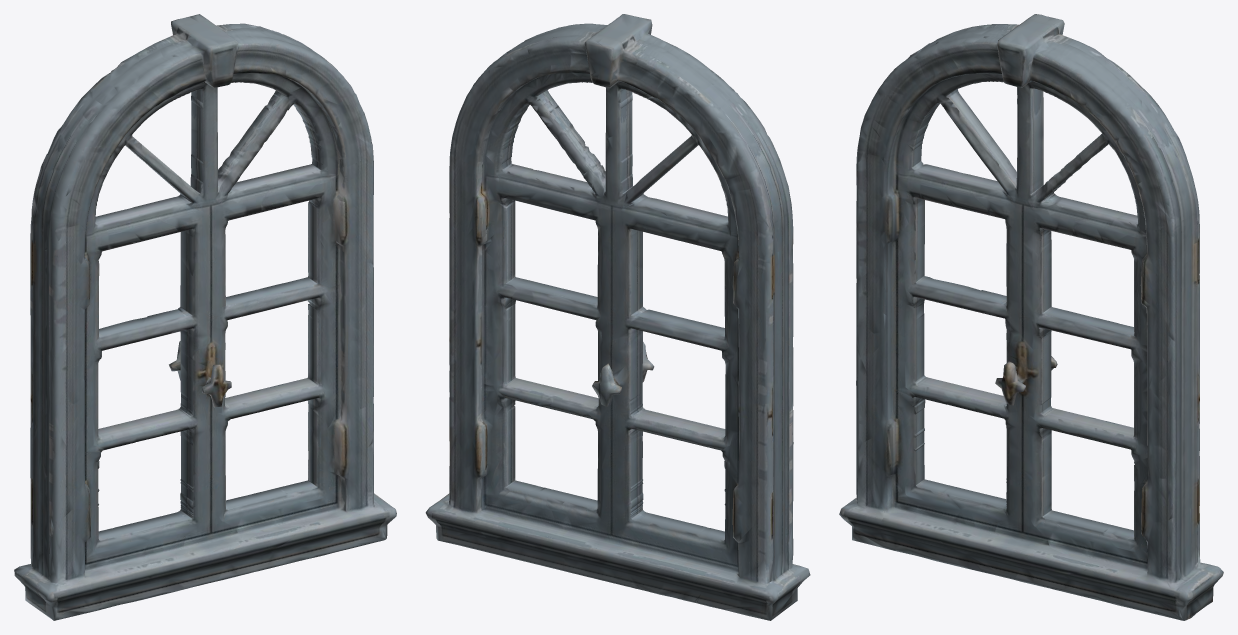
Rendered from window-frame.glb.
The picture shows the model from 3 angles, left to right: view 1: azimuth 30°, elevation 25°; view 2: azimuth 150°, elevation 25°; view 3: azimuth 330°, elevation 25°; orthographic projection.
Parts seen in each view (by area): view 1: geometry_0; view 2: geometry_0; view 3: geometry_0.
Boxes of the visible parts, bbox=[...] form: geometry_0: bbox=[14, 14, 396, 620]; geometry_0: bbox=[425, 14, 810, 620]; geometry_0: bbox=[839, 14, 1223, 620].
Bounding box in the file's own units: 1.33 × 1.96 × 0.2632.
1 material, 1 textured.
